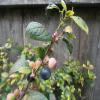Blueberry leaf: (23, 19, 56, 44), (5, 57, 34, 77), (58, 33, 77, 56)
